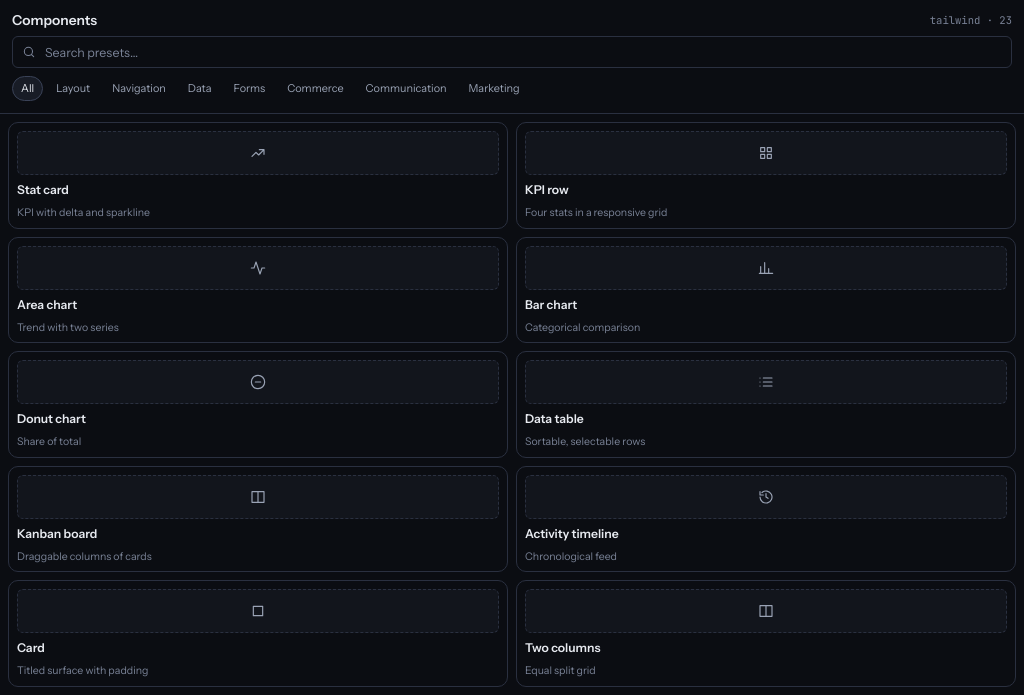
Test: ComponentPalette › the preset grid › says so rather than showing an empty grid when nothing matches
The width and height of the screenshot is (1024, 695).
In the search field with placeholder "Search presets…": (512, 52) [12,36,1012,68], type "zzzznothing"
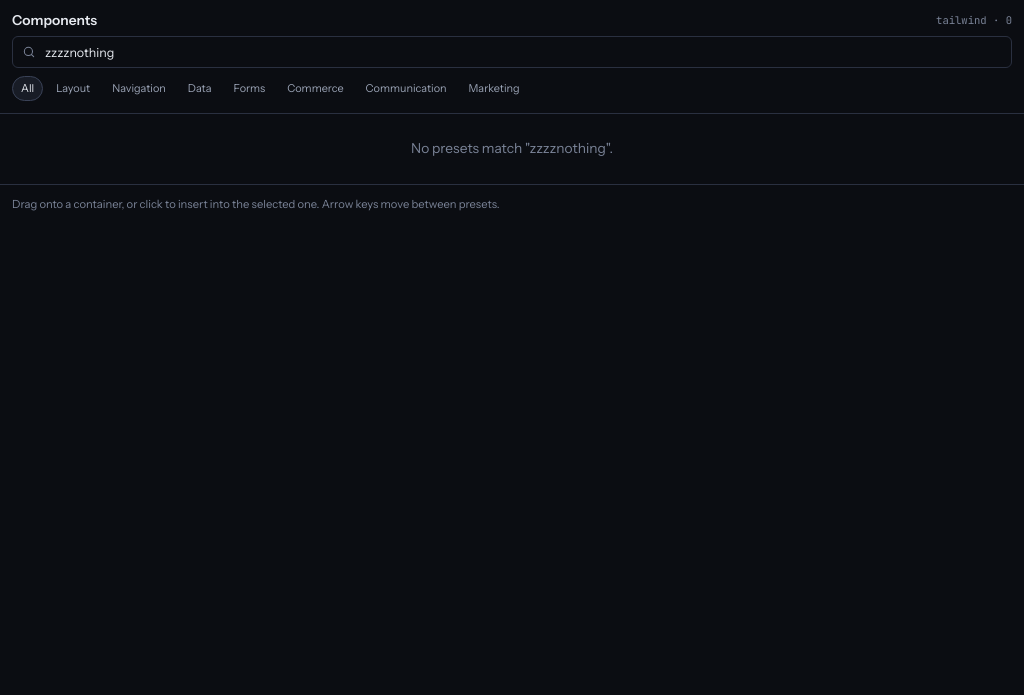
Now the text "No presets match" is shown, box [411,140,613,156]
